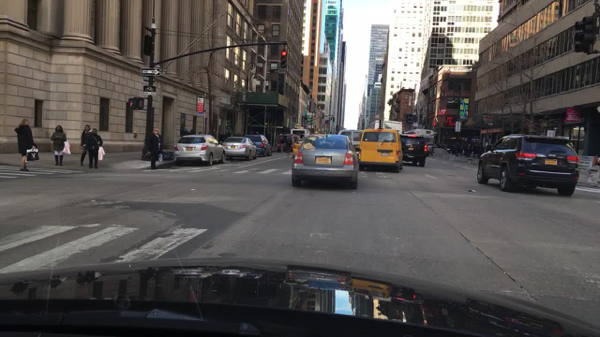car: (477, 133, 578, 195), (291, 134, 360, 191), (357, 129, 402, 174), (173, 135, 225, 167), (221, 136, 258, 162), (400, 133, 427, 167), (242, 133, 274, 157), (337, 129, 364, 154), (292, 137, 303, 161), (425, 143, 433, 158)
person: (13, 118, 41, 172), (49, 125, 73, 167), (85, 128, 106, 170), (147, 126, 165, 170), (78, 125, 94, 168), (284, 138, 293, 156), (280, 133, 286, 153), (179, 127, 190, 136), (473, 143, 477, 158), (220, 132, 225, 143), (467, 143, 470, 161), (478, 141, 481, 158), (224, 132, 231, 139), (471, 143, 474, 158), (456, 142, 459, 156), (439, 142, 445, 149), (463, 143, 465, 156), (232, 132, 236, 138), (191, 129, 195, 135), (460, 142, 462, 154), (237, 132, 241, 137), (198, 132, 202, 136)
traffic light: (281, 49, 286, 70), (127, 98, 135, 110), (137, 98, 143, 109), (330, 117, 332, 122)
traffic sign: (141, 67, 160, 76), (143, 85, 157, 95), (142, 76, 154, 81)
truck: (369, 120, 403, 134), (405, 128, 433, 140), (288, 129, 308, 140)
